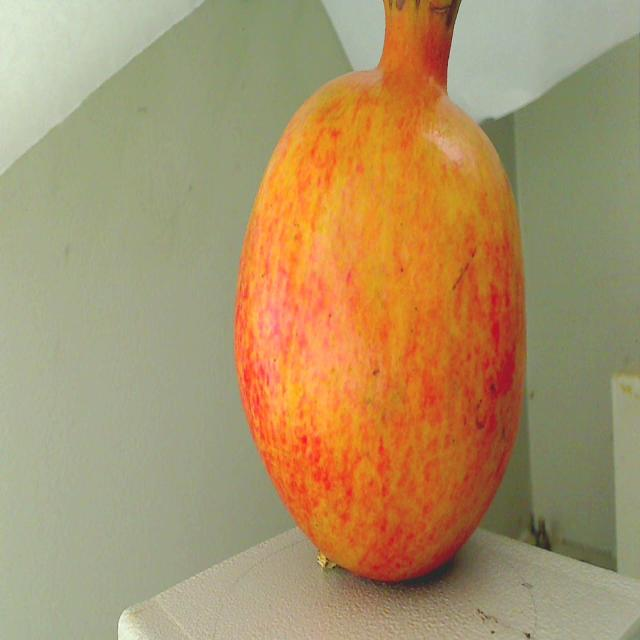pomegranate: (228, 0, 538, 596)
